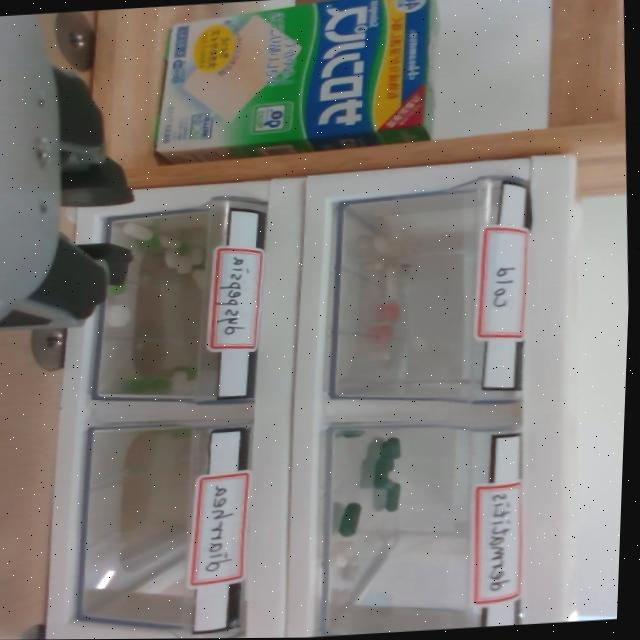text: (476, 490, 519, 595), (212, 247, 258, 341), (200, 479, 241, 578), (484, 261, 521, 313)
